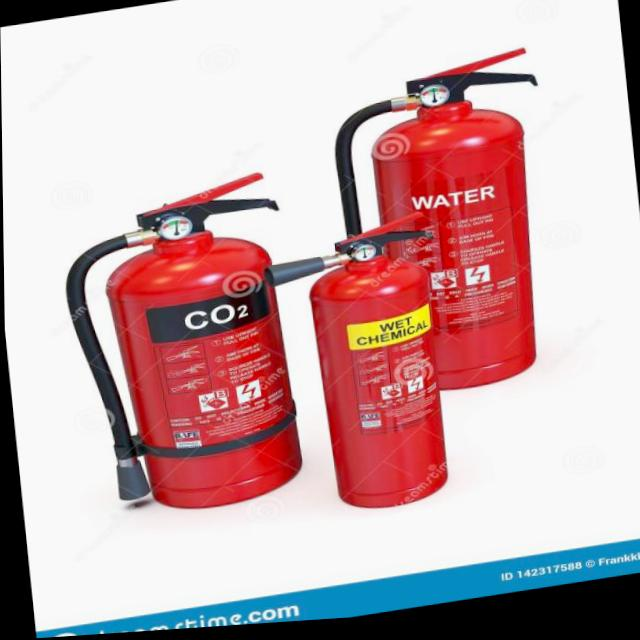FireExtinguisher: (306, 42, 578, 422), (48, 168, 309, 536), (254, 209, 469, 532)
